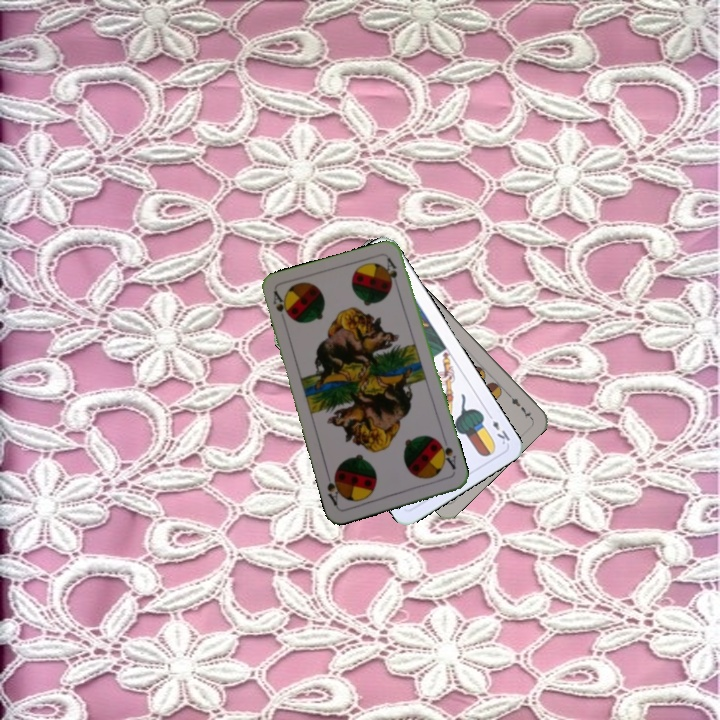E7: (502, 388, 534, 421)
EK: (483, 409, 513, 447)
SA: (434, 437, 459, 472), (269, 287, 293, 321)
